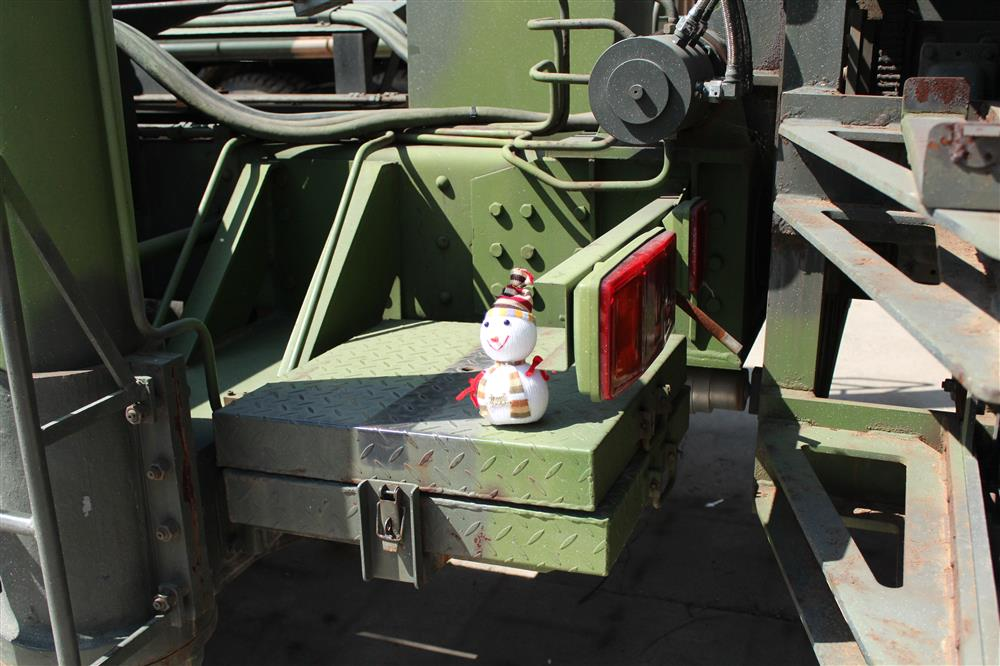toy_snowman: (456, 265, 560, 428)
